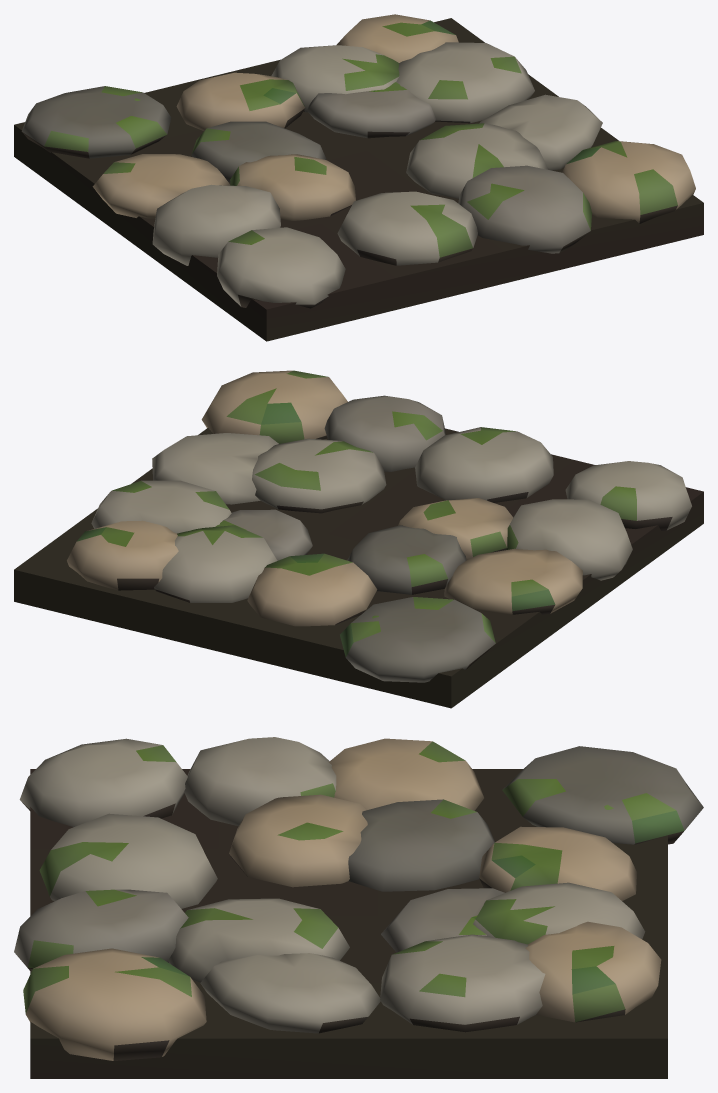
Rendered from kit_floor0.glb.
3 views of the same model, one above another, from view 1: azimuth 30°, elevation 25°; view 2: azimuth 150°, elevation 25°; view 3: azimuth 270°, elevation 25° (orthographic). The views are drawn at different scales.
Visible parts, largest first — view 1: kit_floor0; view 2: kit_floor0; view 3: kit_floor0.
Boxes of the visible parts, x1,y1,x2,y2 form: kit_floor0: (14, 14, 703, 341); kit_floor0: (14, 370, 703, 708); kit_floor0: (14, 737, 703, 1078).
Size of the model in its own units: 1.08 by 0.1396 by 1.08.
